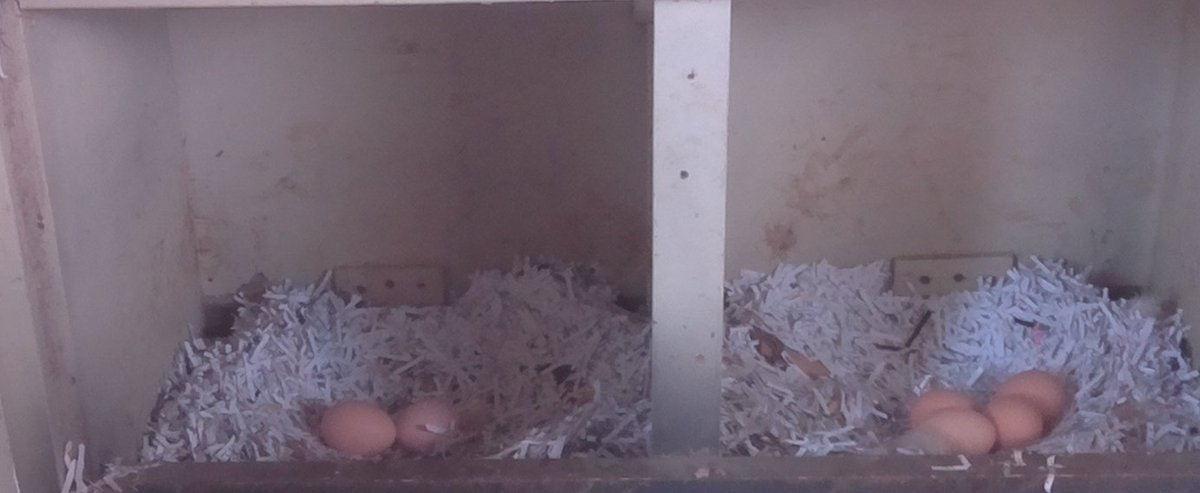egg: (993, 364, 1072, 437), (907, 406, 1001, 467), (314, 394, 401, 457), (392, 394, 465, 456), (982, 391, 1049, 457), (905, 379, 981, 431)
